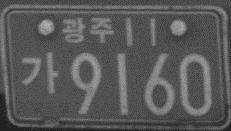0: (178, 51, 213, 116)
1: (114, 51, 131, 116), (122, 15, 135, 48), (148, 15, 158, 47)
6: (142, 51, 175, 115)
9: (70, 50, 102, 115)
가: (20, 49, 60, 95)
광주_O: (61, 16, 115, 44)
